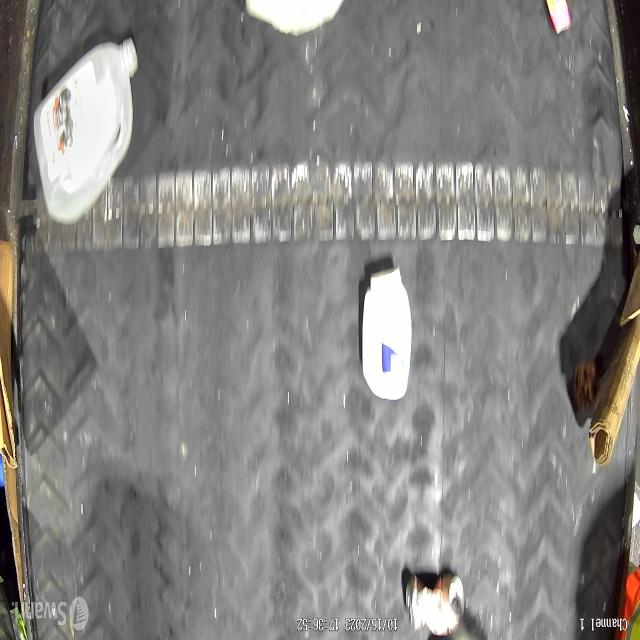can: (407, 562, 463, 640)
milk_jug: (29, 39, 145, 224)
